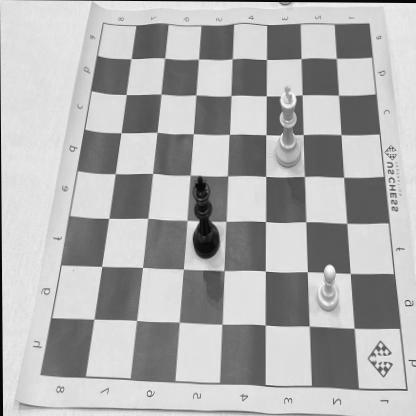black-king: (188, 171, 223, 262)
white-king: (273, 82, 303, 170)
white-pawn: (315, 261, 341, 314)
